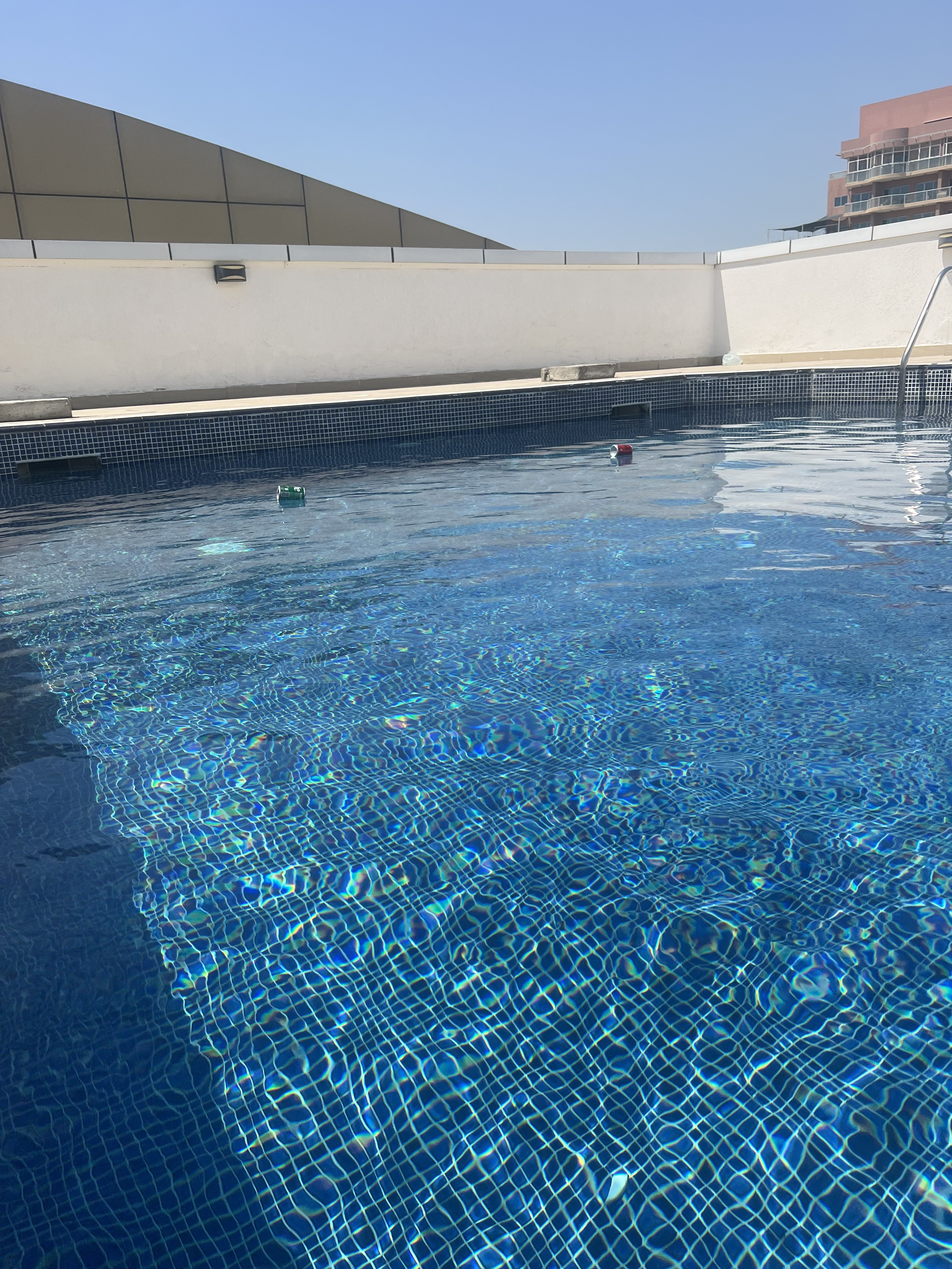debris: (275, 472, 307, 512), (606, 435, 635, 470)
